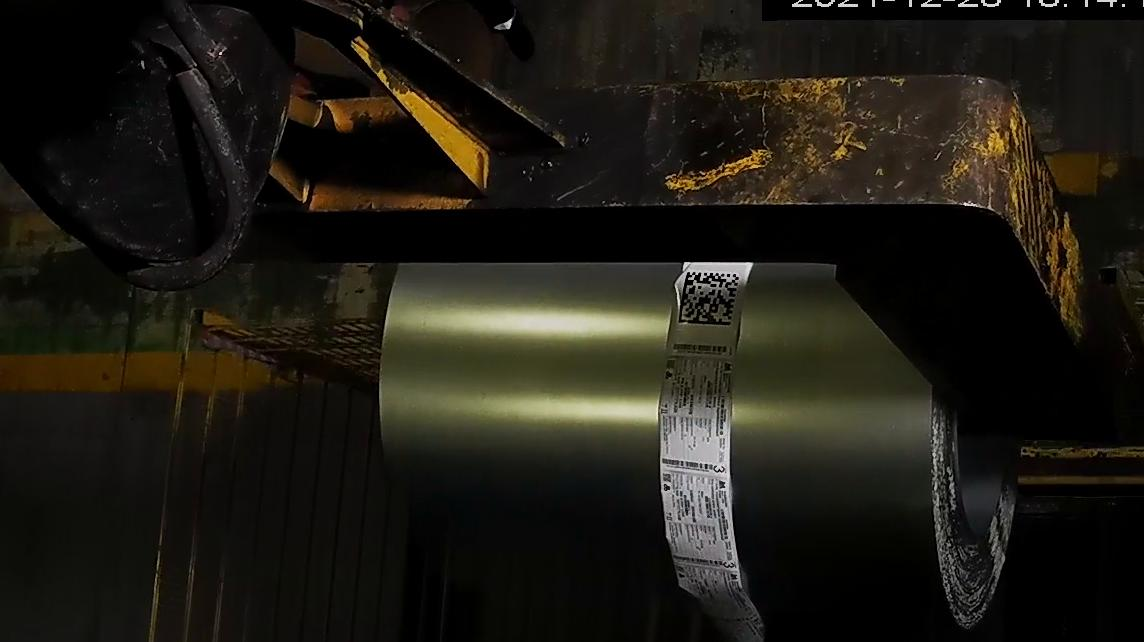data matrix: (676, 268, 743, 329)
